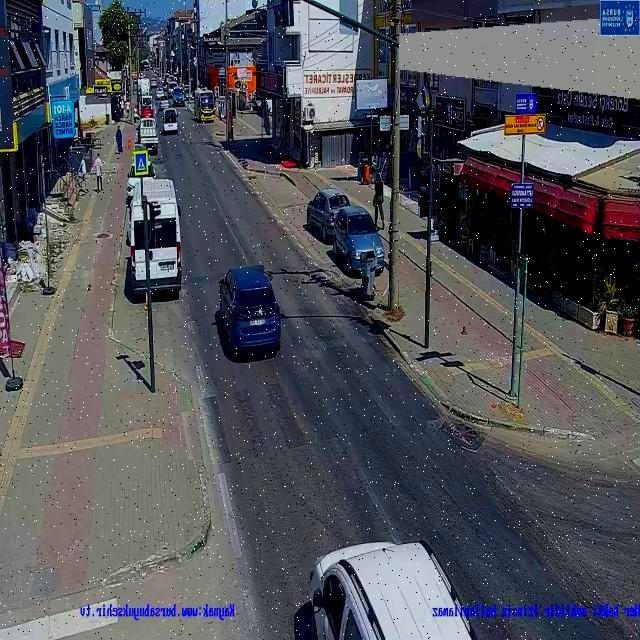Bus: (132, 179, 183, 300), (193, 87, 216, 124)
Car: (221, 264, 282, 355), (334, 204, 387, 276)
Van: (163, 106, 180, 134)
